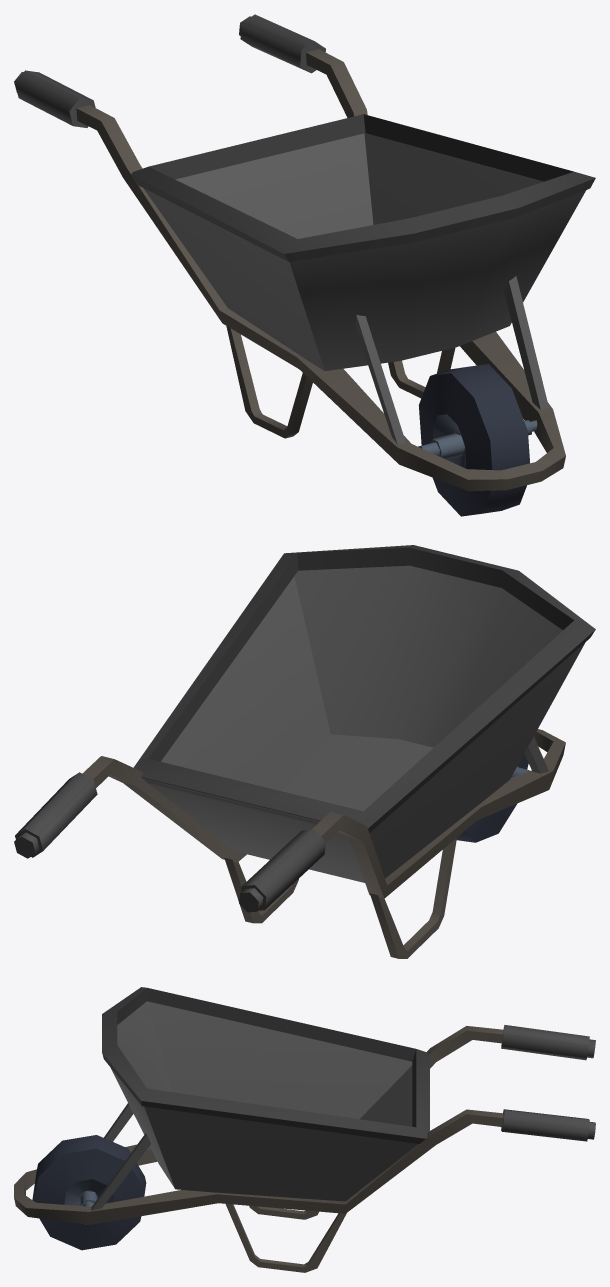
File: WheelBarel_2.fbx
3 views of the same model, one above another, from view 1: azimuth 30°, elevation 25°; view 2: azimuth 150°, elevation 25°; view 3: azimuth 270°, elevation 25° (orthographic). The views are drawn at different scales.
Visible parts, largest first — view 1: WheelBarel_2; view 2: WheelBarel_2; view 3: WheelBarel_2.
Boxes of the visible parts, x1=… form: WheelBarel_2: x1=14, y1=14, x2=595, y2=516; WheelBarel_2: x1=14, y1=545, x2=595, y2=958; WheelBarel_2: x1=14, y1=987, x2=595, y2=1272.
Bounding box in the file's own units: 99.88 × 88.56 × 216.
